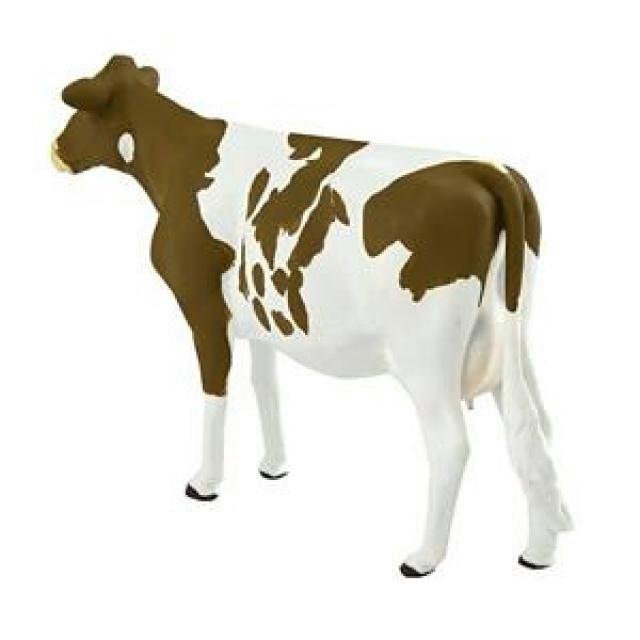cow: (51, 56, 570, 577)
